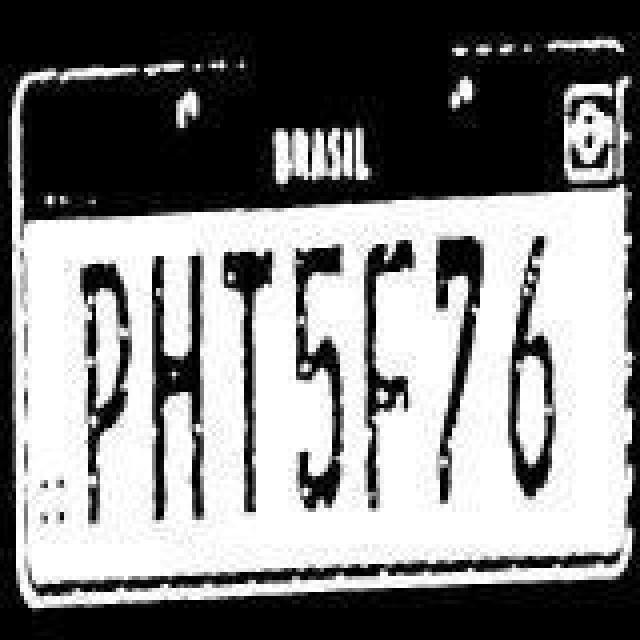5: (284, 218, 348, 518)
6: (502, 212, 570, 508)
7: (428, 206, 500, 498)
F: (356, 212, 420, 524)
H: (140, 230, 212, 546)
P: (72, 244, 136, 556)
T: (212, 228, 284, 524)
